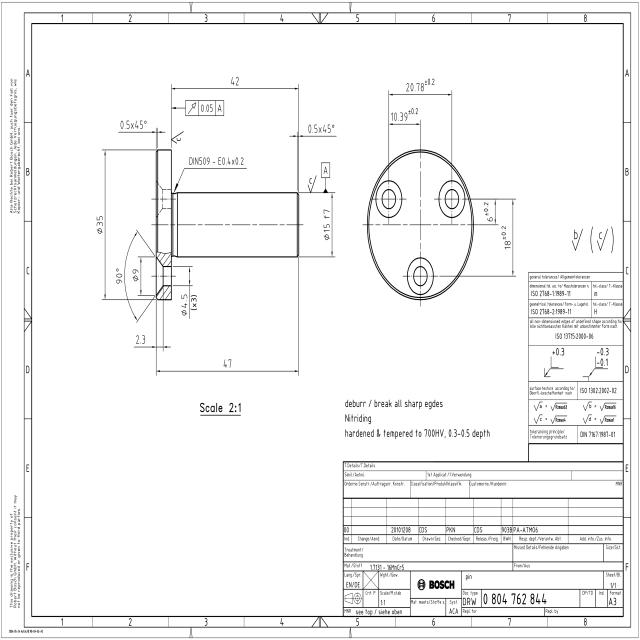dimension: (188, 155, 245, 167), (390, 106, 419, 122), (180, 292, 198, 317), (405, 77, 435, 92), (119, 118, 148, 132), (308, 122, 337, 136), (322, 207, 332, 242), (500, 223, 511, 251), (482, 200, 494, 224), (96, 213, 104, 236), (134, 332, 147, 346), (115, 266, 124, 286), (131, 267, 140, 283), (230, 74, 240, 88), (222, 356, 232, 369)
